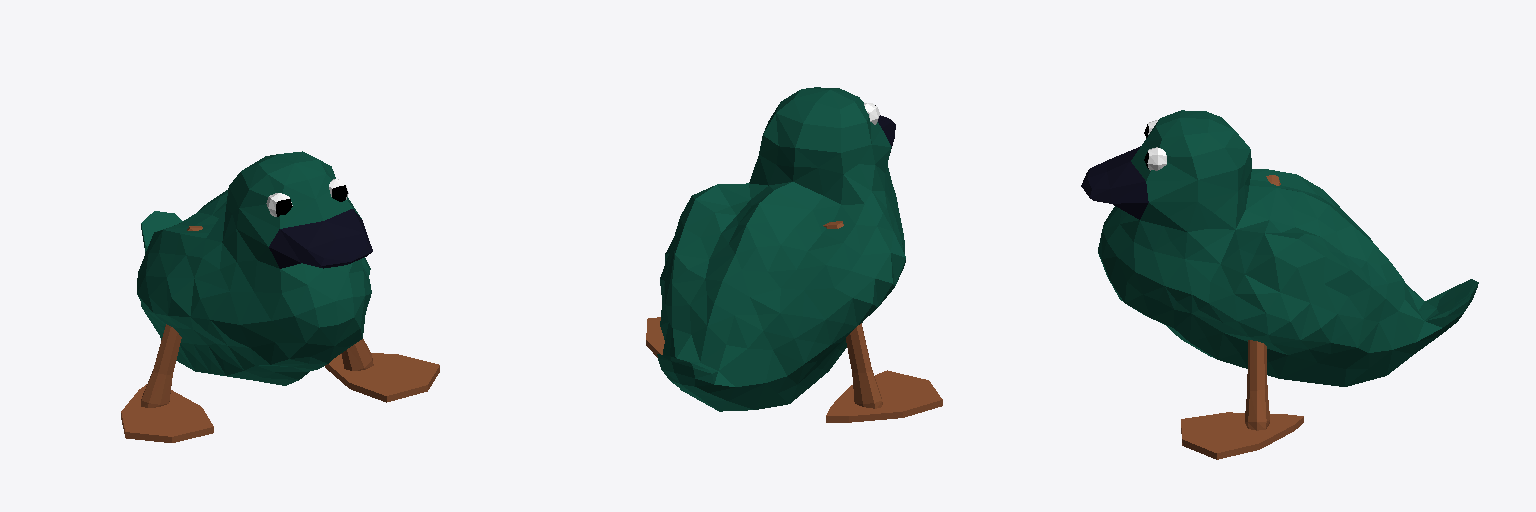
The picture shows the model from 3 angles: view 1: azimuth 30°, elevation 25°; view 2: azimuth 150°, elevation 25°; view 3: azimuth 270°, elevation 25°; orthographic projection.
Parts seen in each view (by area): view 1: Cube_Cube.016, Cube_Cube.001_Cube_Cube.002, Plane, Plane.001, Cube.001_Cube.017, Cube.002_Cube.018; view 2: Cube_Cube.016, Plane.001, Cube.001_Cube.017, Plane; view 3: Cube_Cube.016, Plane, Cube_Cube.001_Cube_Cube.002, Cube.002_Cube.018.
Part boxes in pixels (left/top/right/bottom): Cube_Cube.016: left=137, top=151, right=371, bottom=385; Cube_Cube.001_Cube_Cube.002: left=269, top=209, right=372, bottom=268; Plane: left=325, top=353, right=439, bottom=402; Plane.001: left=121, top=384, right=213, bottom=442; Cube.001_Cube.017: left=141, top=226, right=202, bottom=407; Cube.002_Cube.018: left=341, top=339, right=373, bottom=370; Cube_Cube.016: left=657, top=87, right=905, bottom=411; Plane.001: left=826, top=370, right=942, bottom=422; Cube.001_Cube.017: left=823, top=221, right=882, bottom=408; Plane: left=646, top=317, right=664, bottom=357; Cube_Cube.016: left=1098, top=110, right=1478, bottom=386; Plane: left=1181, top=412, right=1303, bottom=459; Cube_Cube.001_Cube_Cube.002: left=1081, top=146, right=1148, bottom=219; Cube.002_Cube.018: left=1245, top=340, right=1269, bottom=430.
Size of the model in its own units: 2.34 by 1.94 by 2.64.
Materials: 3 (2 with a texture image).